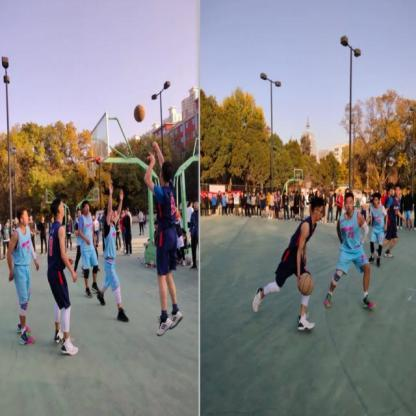basketball: (299, 272, 314, 296), (135, 104, 146, 123)
